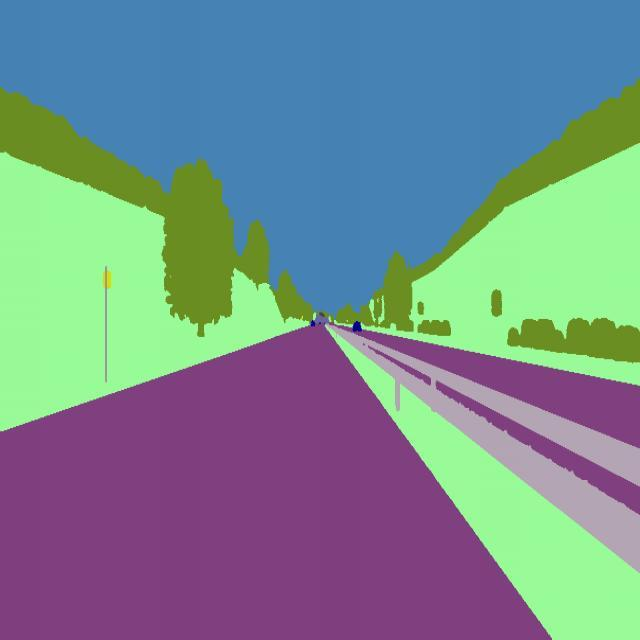safe: (350, 320, 364, 338), (310, 318, 316, 328)
